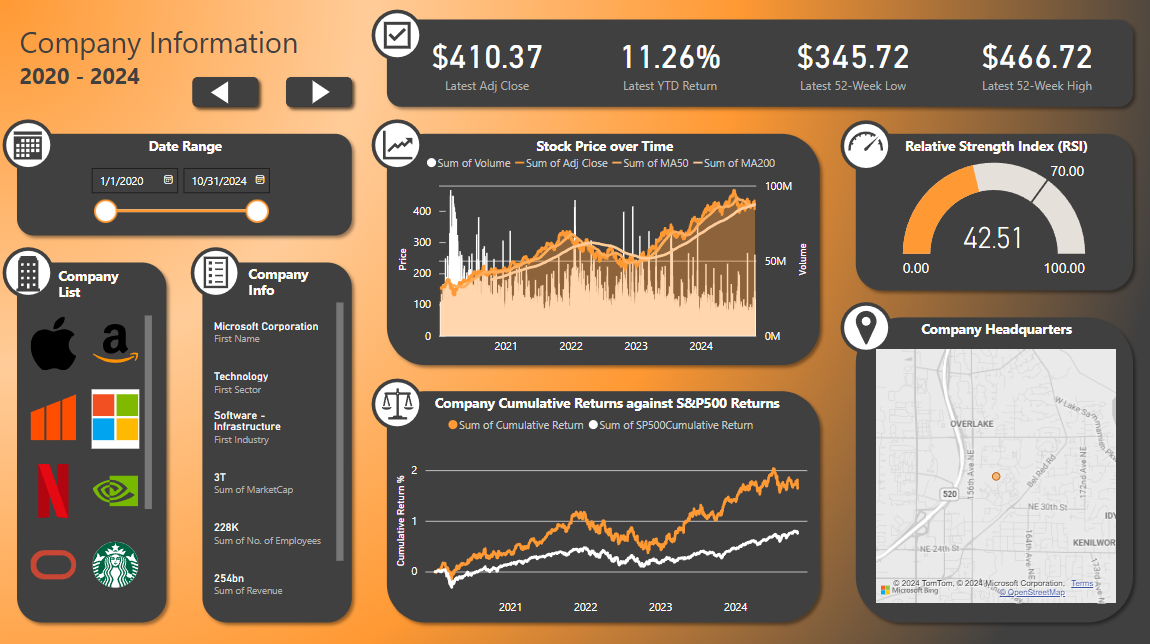

This screenshot's page, from the dashboard's own definition file:
{"tool":"powerbi","page":{"name":"Company Information","canvas":[1280,720],"ordinal":0},"visuals":[{"type":"shape","box":[425,425,525,285],"z":0},{"type":"shape","box":[425,125,525,285],"z":1000},{"type":"shape","box":[965,125,305,200],"z":2000},{"type":"shape","box":[965,340,305,370],"z":3000},{"type":"shape","box":[425,10,845,100],"z":4000},{"type":"textbox","box":[10,10,400,100],"z":5000},{"type":"slicer","title":"Date Range","fields":{"Values":["StockData.Date"]},"box":[10,125,400,110],"z":6000},{"type":"advancedSlicerVisual","title":"List of Companies","fields":{"Values":["CompanyData.Logo URL"]},"box":[10,245,192,465],"z":7000},{"type":"multiRowCard","fields":{"Values":["CompanyData.Name","CompanyData.Ticker","CompanyData.Sector","CompanyData.Industry","CompanyData.MarketCap","CompanyData.No. of Employees","CompanyData.Revenue","CompanyData.Net Income","CompanyData.P/E Ratio (Trailing)"]},"box":[217,245,192,465],"z":8000},{"type":"card","fields":{"Values":["StockData.Latest Adj Close"]},"box":[430,15,180,90],"z":9000},{"type":"card","fields":{"Values":["StockData.Latest YTD Return"]},"box":[648.3,15,180,90],"z":10000},{"type":"card","fields":{"Values":["StockData.Latest 52-Week Low"]},"box":[866.7,15,180,90],"z":11000},{"type":"card","fields":{"Values":["StockData.Latest 52-Week High"]},"box":[1085,15,180,90],"z":12000},{"type":"gauge","title":"Relative Strength Index (RSI)","fields":{"Y":["StockData.Latest RSI"]},"box":[970,130,295,190],"z":13000},{"type":"map","title":"Headquarters Location","fields":{"Category":["CompanyData.Address"]},"box":[970,345,295,360],"z":14000},{"type":"lineClusteredColumnComboChart","title":"Close price over Time","fields":{"Category":["StockData.Date"],"Y2":["Sum(StockData.Adj Close)","Sum(StockData.MA50)","Sum(StockData.MA200)"],"Y":["Sum(StockData.Volume)"]},"box":[430,130,515,275],"z":15000},{"type":"lineChart","title":"Company Returns Against the S&P500","fields":{"Category":["StockData.Date"],"Y":["Sum(SP500Data.Cumulative Return)","Sum(StockData.Cumulative Return)"]},"box":[430,430,515,275],"z":16000}]}

Visuals, with their boxes in screenshot pixels (x1, y1, x2, y2), scaled from the page's 1280x720 canvas onto the 1150x644 screenshot:
shape: (382,380,854,635)
shape: (382,112,854,367)
shape: (867,112,1141,291)
shape: (867,304,1141,635)
shape: (382,9,1141,98)
textbox: (9,9,368,98)
"Date Range" slicer: (9,112,368,210)
"List of Companies" advancedSlicerVisual: (9,219,181,635)
multiRowCard - CompanyData.Name x CompanyData.Ticker: (195,219,367,635)
card - StockData.Latest Adj Close: (386,13,548,94)
card - StockData.Latest YTD Return: (582,13,744,94)
card - StockData.Latest 52-Week Low: (779,13,940,94)
card - StockData.Latest 52-Week High: (975,13,1137,94)
"Relative Strength Index (RSI)" gauge: (871,116,1137,286)
"Headquarters Location" map: (871,309,1137,631)
"Close price over Time" lineClusteredColumnComboChart: (386,116,849,362)
"Company Returns Against the S&P500" lineChart: (386,385,849,631)
